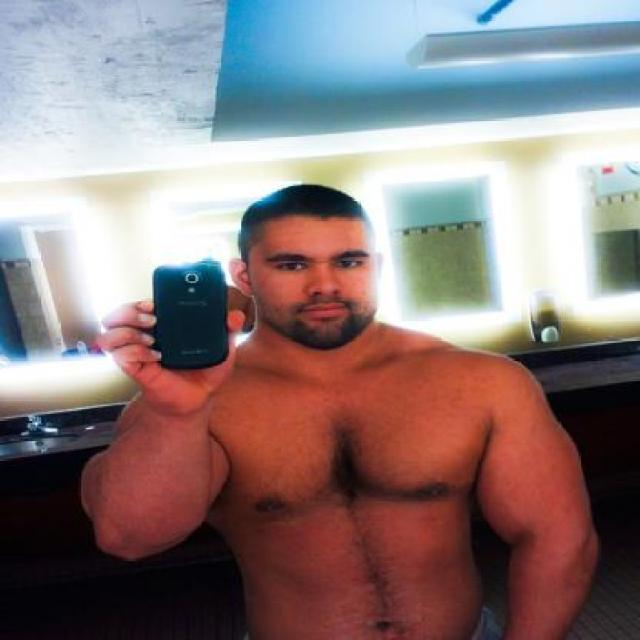phone: (149, 262, 229, 374)
